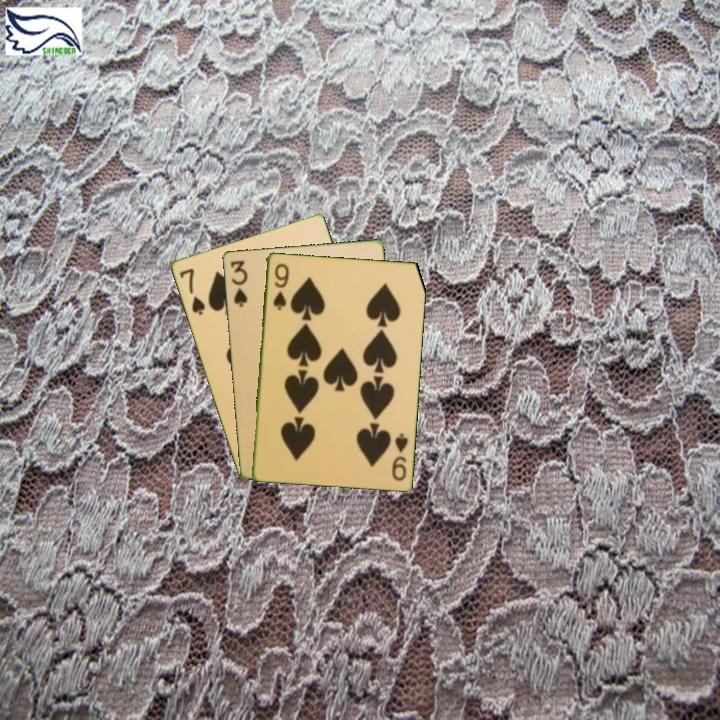3s: (227, 257, 250, 309)
7s: (176, 265, 208, 318)
9s: (388, 429, 410, 483), (269, 260, 291, 313)
